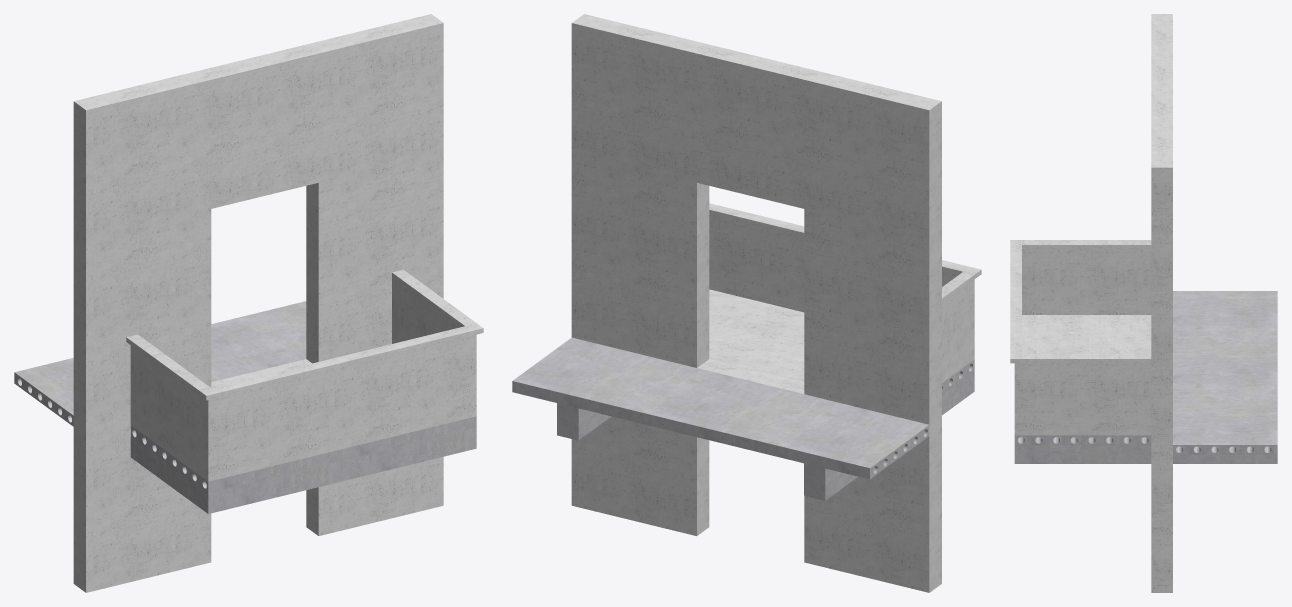
The model's file is cantilever-slab-edge-beam.glb.
3 renders of one model, left to right at view 1: azimuth 30°, elevation 25°; view 2: azimuth 150°, elevation 25°; view 3: azimuth 270°, elevation 25°, orthographic. The views are drawn at different scales.
Visible parts, largest first — view 1: 挑梁搭板- 设置边梁; view 2: 挑梁搭板- 设置边梁; view 3: 挑梁搭板- 设置边梁.
Boxes of the visible parts, left/top/right/bottom form: 挑梁搭板- 设置边梁: left=14, top=14, right=483, bottom=592; 挑梁搭板- 设置边梁: left=512, top=14, right=981, bottom=592; 挑梁搭板- 设置边梁: left=1010, top=14, right=1277, bottom=592.
Size of the model in its own units: 4 by 5.16 by 2.94.
Materials: 2 (2 with a texture image).
